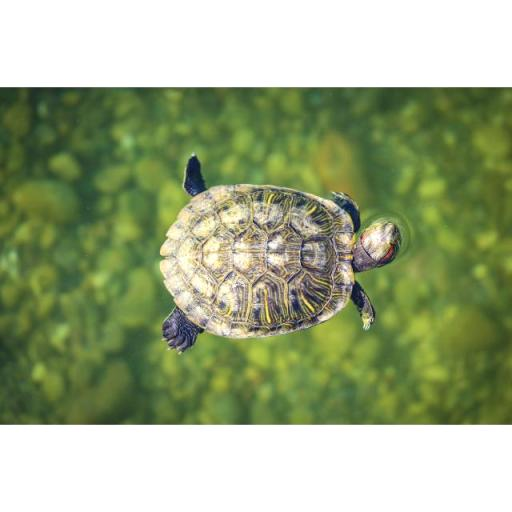turtle: (160, 154, 402, 354)
